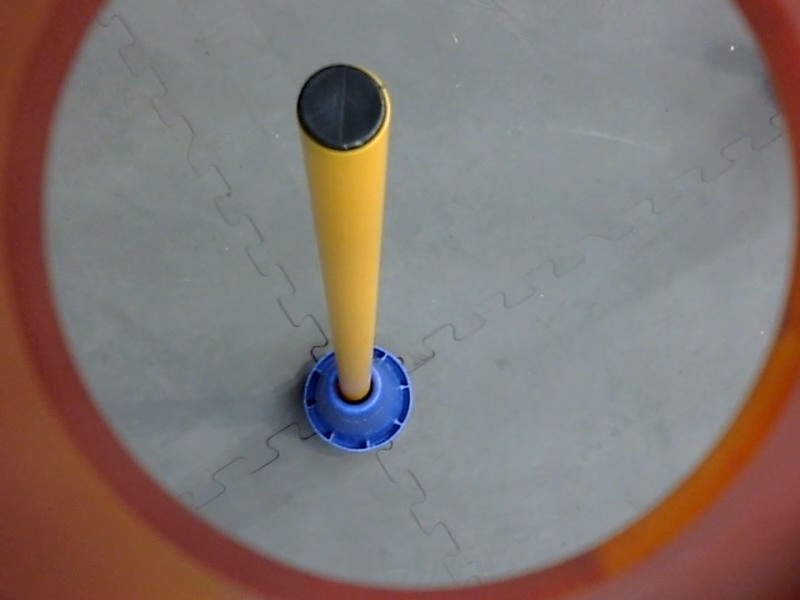tip: (292, 56, 392, 157)
